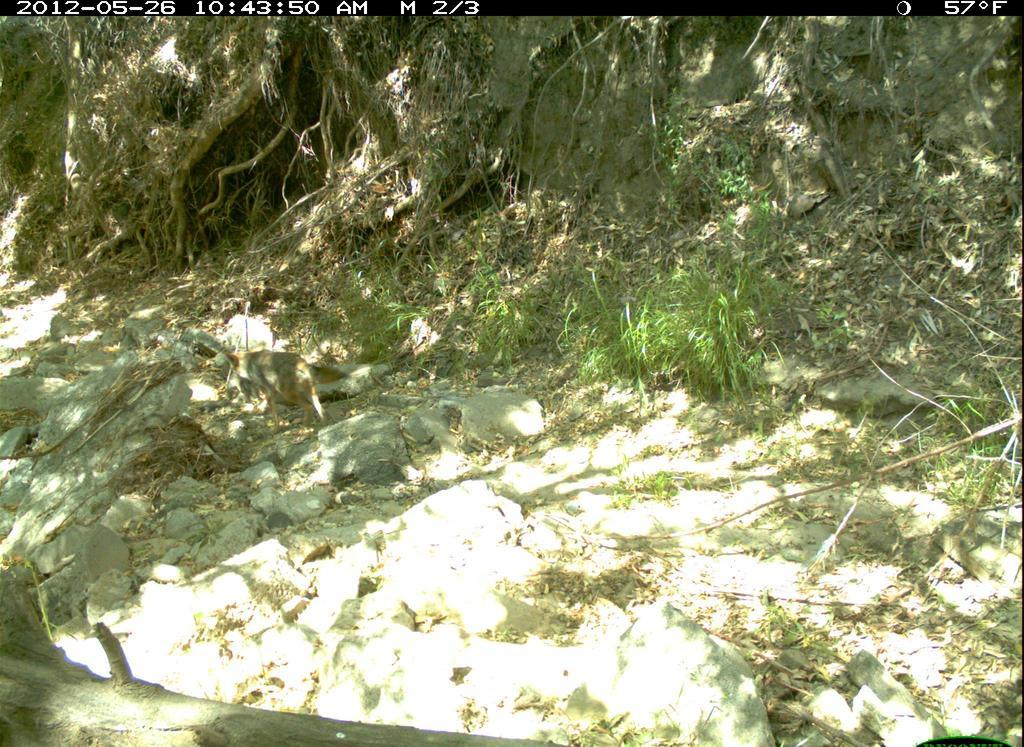coyote: (225, 337, 349, 452)
